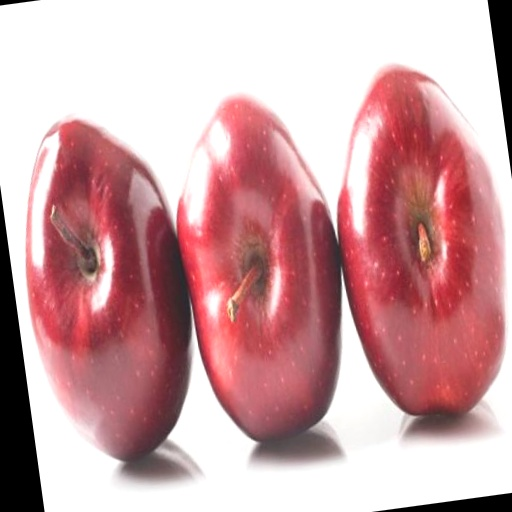fruit: (337, 65, 507, 414), (26, 116, 191, 460), (177, 94, 341, 440)
